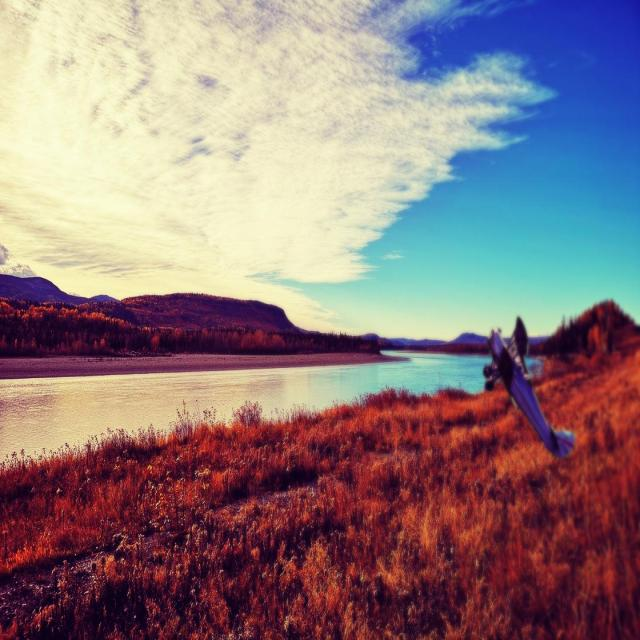airplane: (482, 315, 575, 458)
